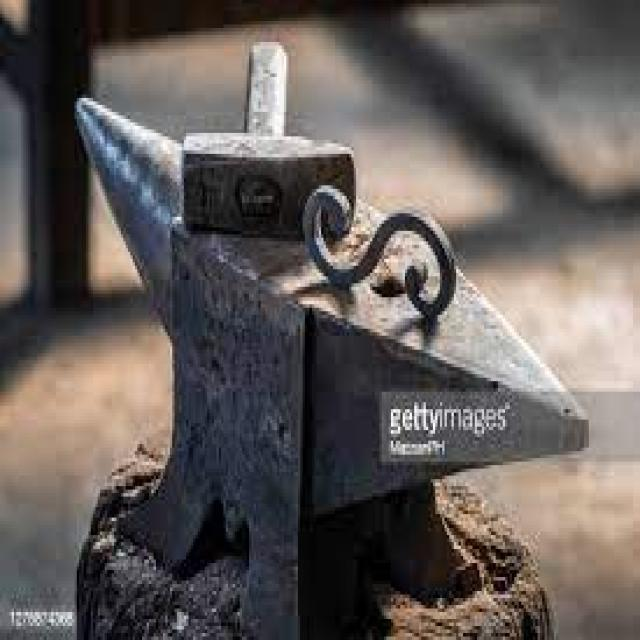hammer: (178, 22, 362, 250)
